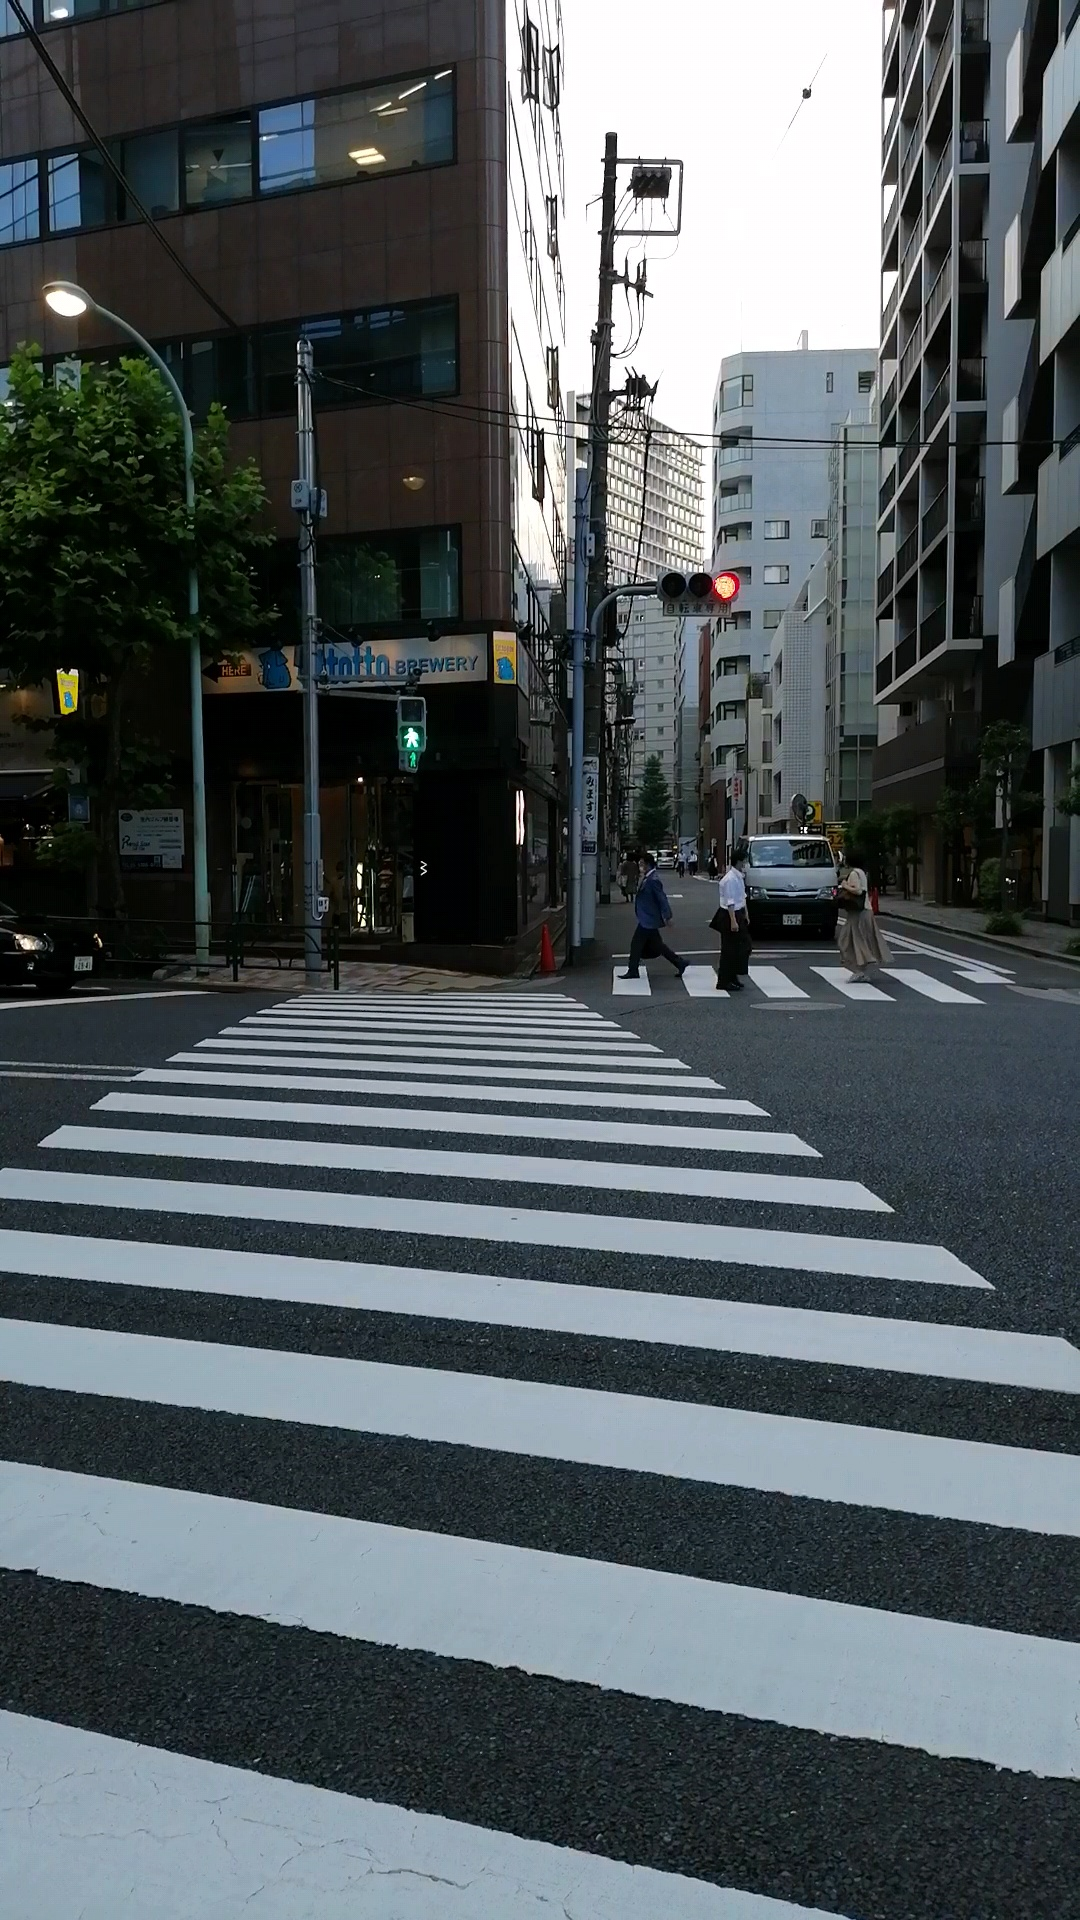green: (396, 696, 429, 753)
